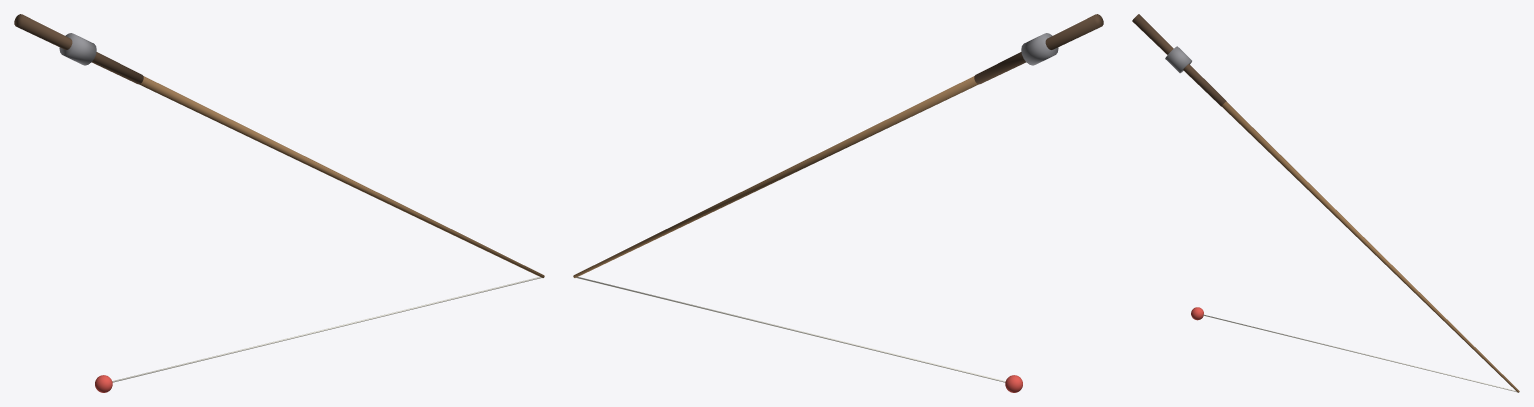
The model's file is angel.glb.
The picture shows the model from 3 angles, left to right: view 1: azimuth 30°, elevation 25°; view 2: azimuth 150°, elevation 25°; view 3: azimuth 330°, elevation 25°; orthographic projection. The views are drawn at different scales.
Visible parts, largest first — view 1: Cone; view 2: Cone; view 3: Cone.
Boxes of the visible parts, x1,y1,x2,y2 form: Cone: [14, 14, 544, 392]; Cone: [573, 14, 1103, 392]; Cone: [1132, 14, 1519, 392].
Bounding box in the file's own units: 1.5 × 1.08 × 0.06.
